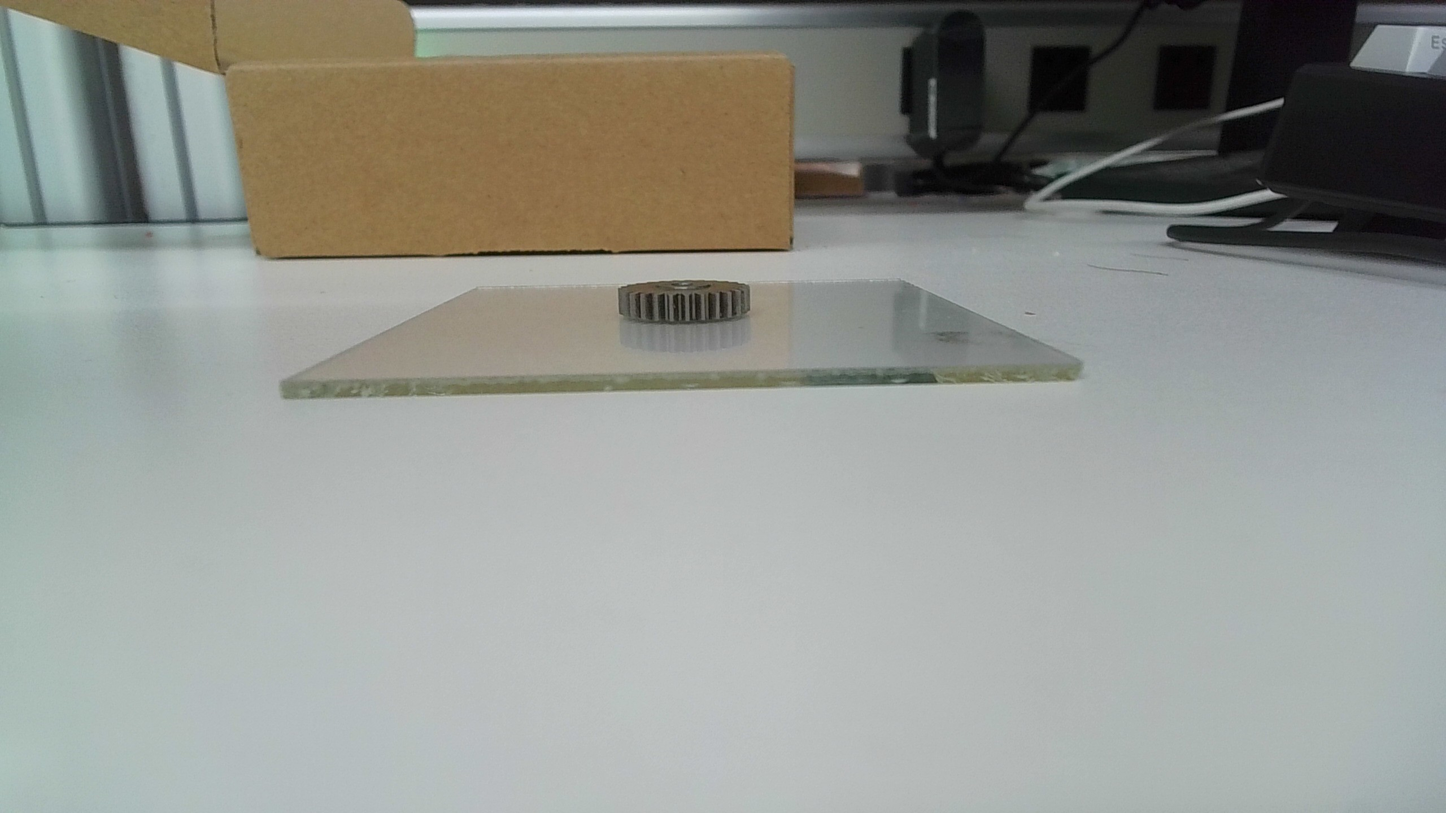gear: (616, 281, 754, 326)
